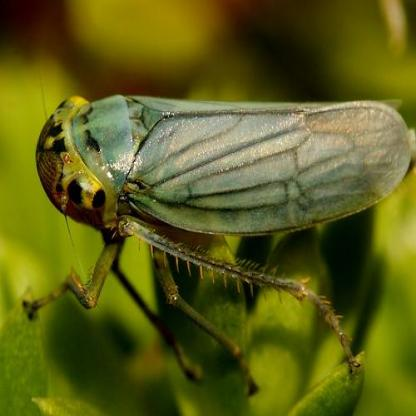Green-Leafhopper: (20, 83, 416, 380)
